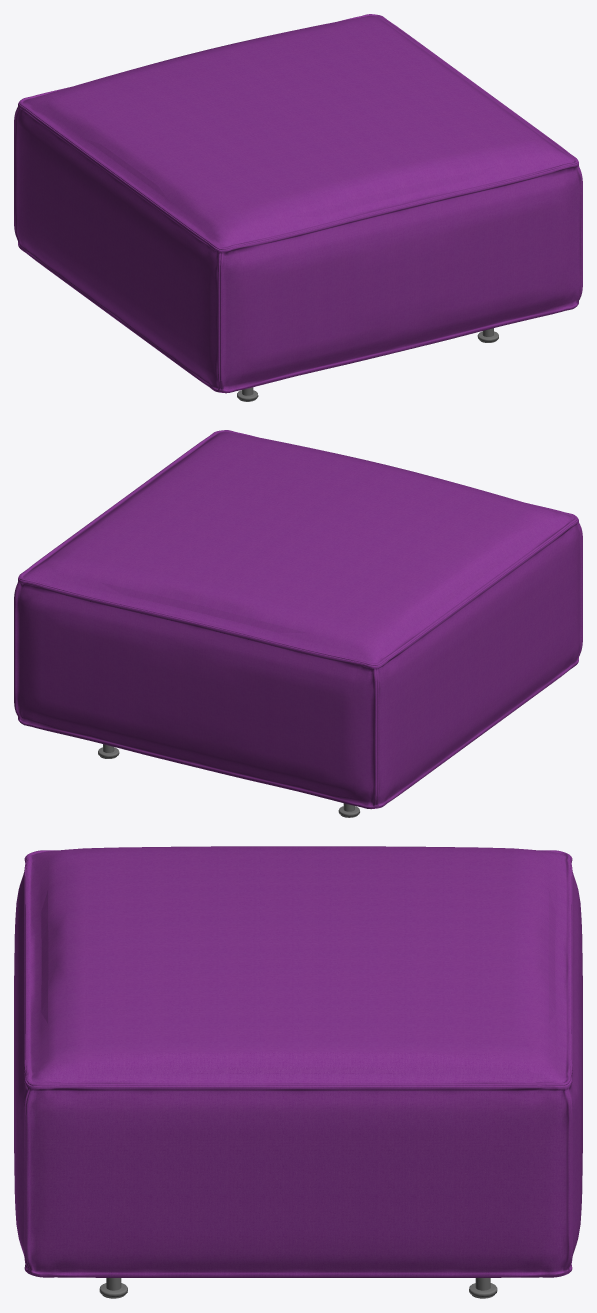
Rendered from obj_alcove_plume_ottoman_vitra_422cb4.glb.
3 views of the same model, one above another, from view 1: azimuth 30°, elevation 25°; view 2: azimuth 150°, elevation 25°; view 3: azimuth 270°, elevation 25° (orthographic). The views are drawn at different scales.
Parts seen in each view (by area): view 1: obj_alcove_plume_ottoman_vitra_422cb4; view 2: obj_alcove_plume_ottoman_vitra_422cb4; view 3: obj_alcove_plume_ottoman_vitra_422cb4.
Part boxes in pixels (bbox=[...]): obj_alcove_plume_ottoman_vitra_422cb4: bbox=[14, 14, 582, 401]; obj_alcove_plume_ottoman_vitra_422cb4: bbox=[14, 430, 582, 817]; obj_alcove_plume_ottoman_vitra_422cb4: bbox=[14, 846, 582, 1298].
Size of the model in its own units: 0.7759 by 0.42 by 0.7757.
Materials: 2 (2 with a texture image).
